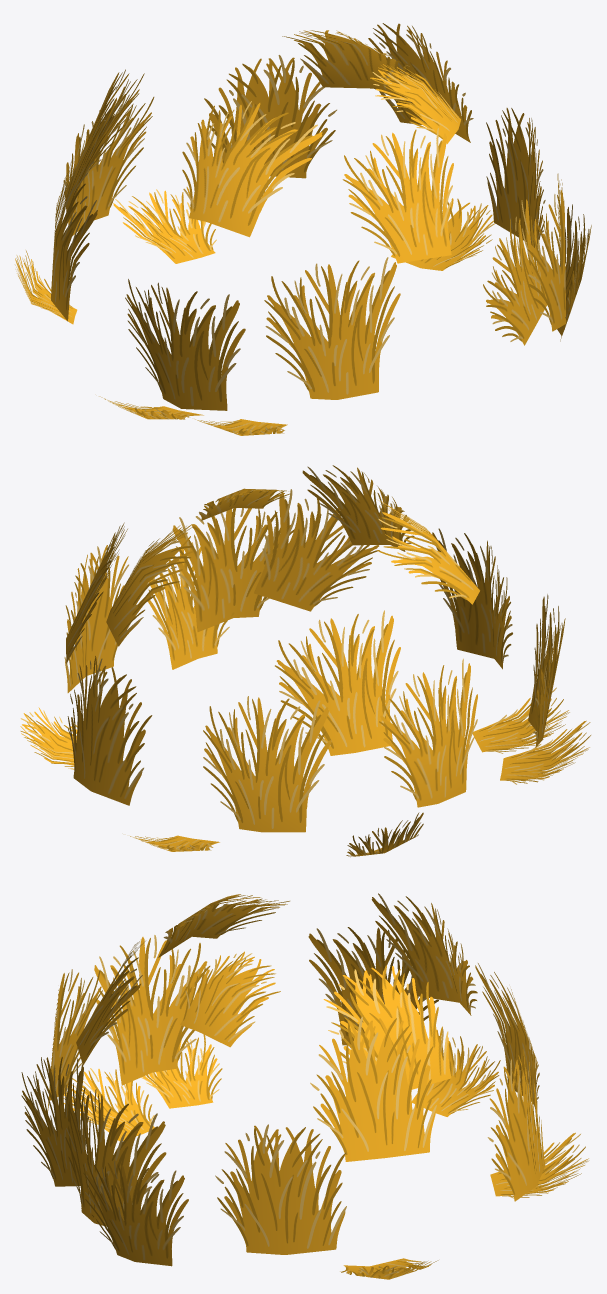
The model's file is Pajar redondo planos.fbx.
The picture shows the model from 3 angles, top to bottom: view 1: azimuth 30°, elevation 25°; view 2: azimuth 150°, elevation 25°; view 3: azimuth 270°, elevation 25°; orthographic projection. The views are drawn at different scales.
Visible parts, largest first — view 1: Paja_1_56, Paja_1_66, Paja_1_69, Paja_1_67, Paja_2_15, Paja_2_17, Paja_1_58, Paja_2_20, Paja_1_63, Paja_1_65, Paja_2_16, Paja_1_59 (+8 smaller); view 2: Paja_1_63, Paja_1_64, Paja_1_59, Paja_1_57, Paja_1_58, Paja_2_15, Paja_1_56, Paja_1_67, Paja_2_17, Paja_1_68, Paja_2_20, Paja_1_66 (+8 smaller); view 3: Paja_2_16, Paja_2_17, Paja_1_69, Paja_2_20, Paja_1_57, Paja_1_68, Paja_1_64, Paja_2_19, Paja_2_15, Paja_1_58, Paja_1_59, Paja_1_70 (+9 smaller).
Boxes of the visible parts, box(x1,y1,x2,y2) form: Paja_1_56: box(264, 257, 400, 399); Paja_1_66: box(182, 101, 322, 237); Paja_1_69: box(125, 279, 245, 410); Paja_1_67: box(342, 128, 453, 263); Paja_2_15: box(204, 55, 336, 178); Paja_2_17: box(486, 108, 545, 247); Paja_1_58: box(483, 199, 546, 345); Paja_2_20: box(282, 30, 415, 101); Paja_1_63: box(63, 96, 154, 235); Paja_1_65: box(113, 187, 216, 263); Paja_2_16: box(368, 23, 473, 142); Paja_1_59: box(51, 160, 97, 321); Paja_1_63: box(203, 696, 331, 832); Paja_1_64: box(275, 610, 400, 755); Paja_1_59: box(379, 658, 477, 807); Paja_1_57: box(172, 505, 294, 631); Paja_1_58: box(254, 489, 379, 611); Paja_2_15: box(67, 656, 152, 805); Paja_1_56: box(432, 528, 512, 669); Paja_1_67: box(302, 465, 414, 551); Paja_2_17: box(64, 545, 128, 692); Paja_1_68: box(148, 542, 234, 669); Paja_2_20: box(106, 524, 193, 646); Paja_1_66: box(376, 499, 479, 604); Paja_2_16: box(310, 1016, 436, 1161); Paja_2_17: box(215, 1124, 346, 1254); Paja_1_69: box(94, 935, 210, 1085); Paja_2_20: box(323, 965, 451, 1089); Paja_1_57: box(65, 1084, 166, 1226); Paja_1_68: box(83, 1157, 188, 1266); Paja_1_64: box(371, 893, 477, 1015); Paja_2_19: box(180, 951, 280, 1047); Paja_2_15: box(487, 1049, 545, 1201); Paja_1_58: box(21, 1057, 89, 1186); Paja_1_59: box(308, 927, 438, 1045); Paja_1_70: box(411, 1028, 500, 1116).
Size of the model in its own units: 59.13 by 30.04 by 59.2.
